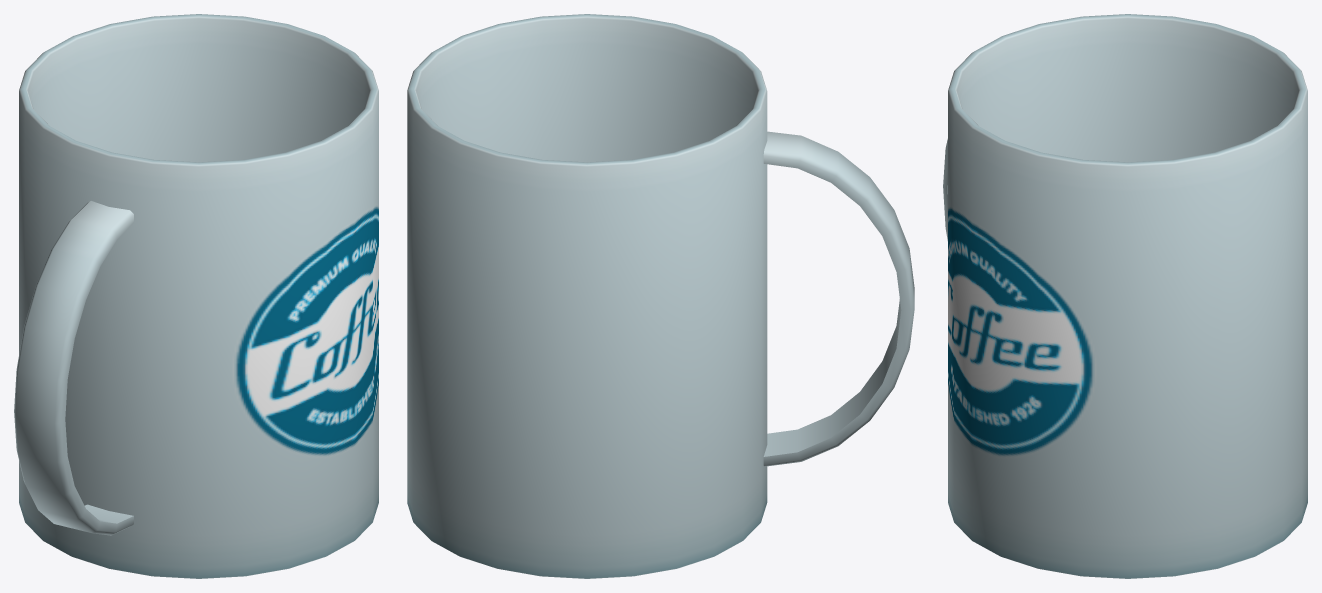
Rendered from Furniture_Mug2.fbx.
The picture shows the model from 3 angles, left to right: view 1: azimuth 30°, elevation 25°; view 2: azimuth 150°, elevation 25°; view 3: azimuth 270°, elevation 25°; orthographic projection.
Visible parts, largest first — view 1: Empty_Mesh; view 2: Empty_Mesh; view 3: Empty_Mesh.
Part boxes in pixels (left/top/right/bottom): Empty_Mesh: left=14, top=14, right=378, bottom=578; Empty_Mesh: left=407, top=14, right=914, bottom=578; Empty_Mesh: left=943, top=14, right=1307, bottom=578.
Bounding box in the file's own units: 7432 × 7145 × 5710.
